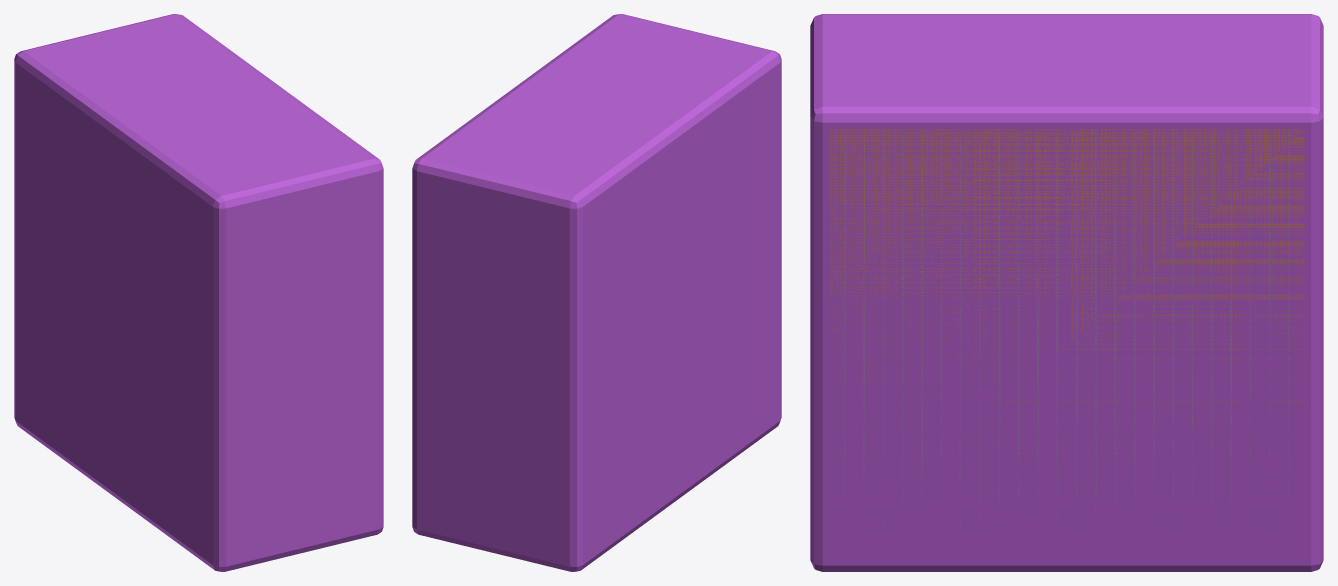
Rendered from grating.glb.
3 views of the same model, side by side, from view 1: azimuth 30°, elevation 25°; view 2: azimuth 150°, elevation 25°; view 3: azimuth 270°, elevation 25° (orthographic). The views are drawn at different scales.
Parts seen in each view (by area): view 1: grating; view 2: grating; view 3: grating.
Part boxes in pixels (<box>): grating: <box>14,14,383,571</box>; grating: <box>412,14,781,571</box>; grating: <box>810,14,1323,571</box>.
Size of the model in its own units: 6 by 12.7 by 12.7.
